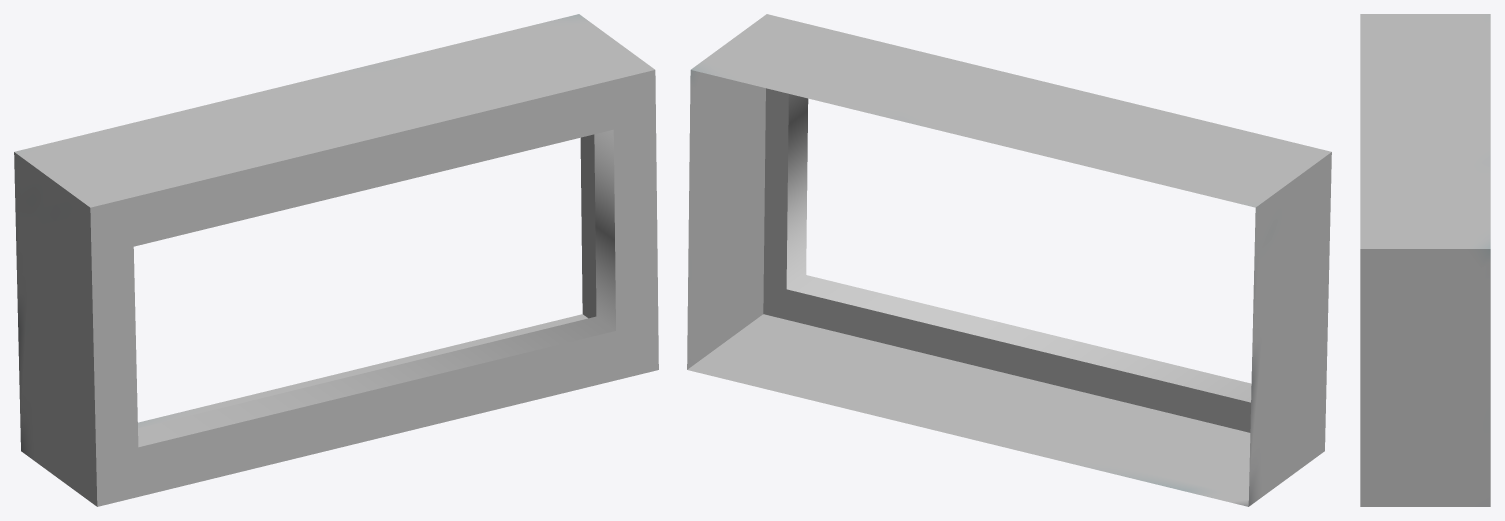
File: DrinkLight.fbx
The picture shows the model from 3 angles, left to right: view 1: azimuth 30°, elevation 25°; view 2: azimuth 150°, elevation 25°; view 3: azimuth 270°, elevation 25°; orthographic projection. The views are drawn at different scales.
Parts seen in each view (by area): view 1: DrinkMachine.001; view 2: DrinkMachine.001; view 3: DrinkMachine.001.
Part boxes in pixels (left/top/right/bottom): DrinkMachine.001: left=14, top=14, right=658, bottom=506; DrinkMachine.001: left=687, top=14, right=1331, bottom=506; DrinkMachine.001: left=1360, top=14, right=1490, bottom=506.
Bounding box in the file's own units: 17.73 × 8.97 × 4.12.
